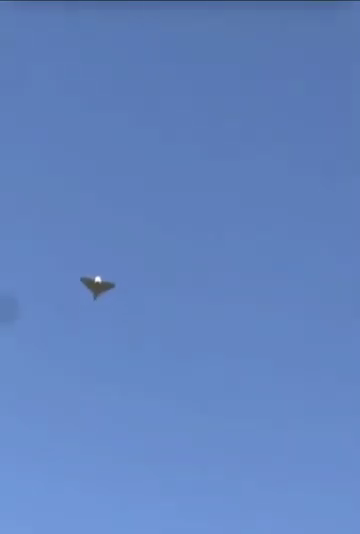shahed: (78, 274, 115, 301)
